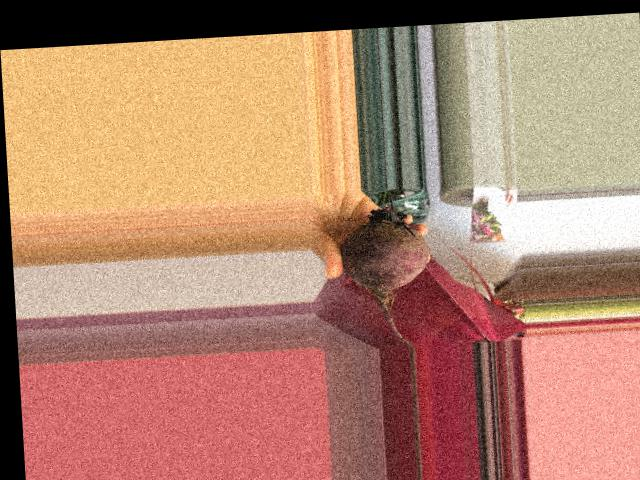beet: (338, 187, 435, 350)
